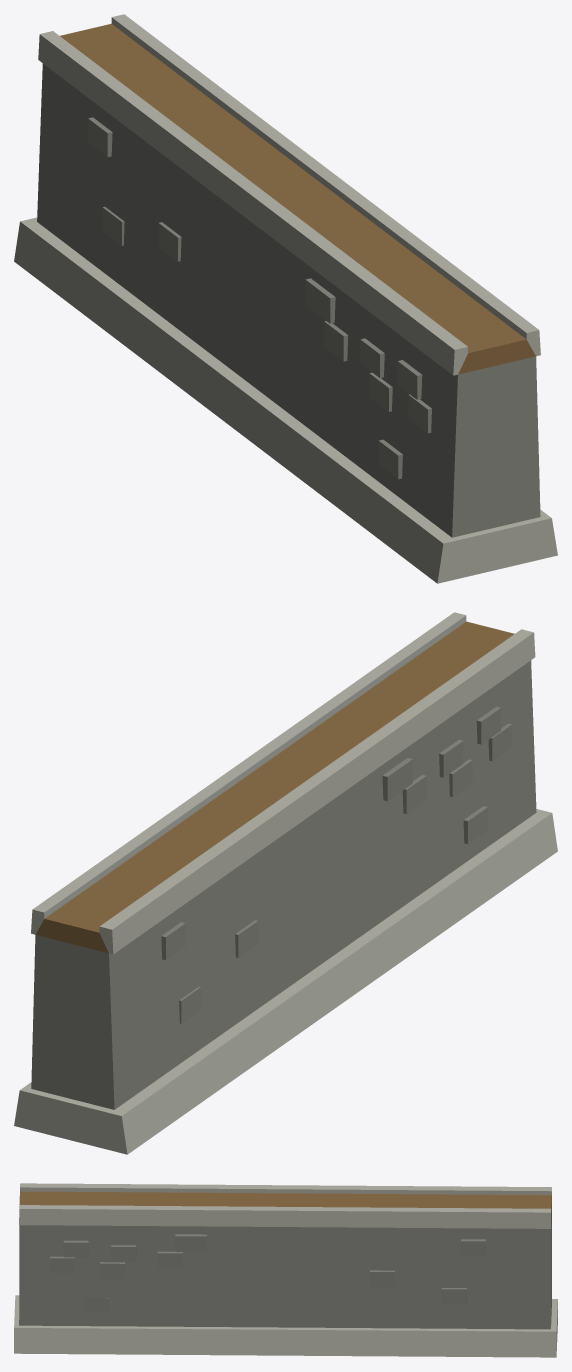
Rendered from p5_lev2.glb.
3 renders of one model, top to bottom at view 1: azimuth 30°, elevation 25°; view 2: azimuth 150°, elevation 25°; view 3: azimuth 270°, elevation 25°, orthographic. The views are drawn at different scales.
Visible parts, largest first — view 1: Wall_SecondAge.004; view 2: Wall_SecondAge.004; view 3: Wall_SecondAge.004.
Boxes of the visible parts, left/top/right/bottom form: Wall_SecondAge.004: left=14, top=14, right=557, bottom=583; Wall_SecondAge.004: left=14, top=612, right=557, bottom=1154; Wall_SecondAge.004: left=14, top=1183, right=557, bottom=1357.
Bounding box in the file's own units: 9.21 × 15.06 × 52.83.
